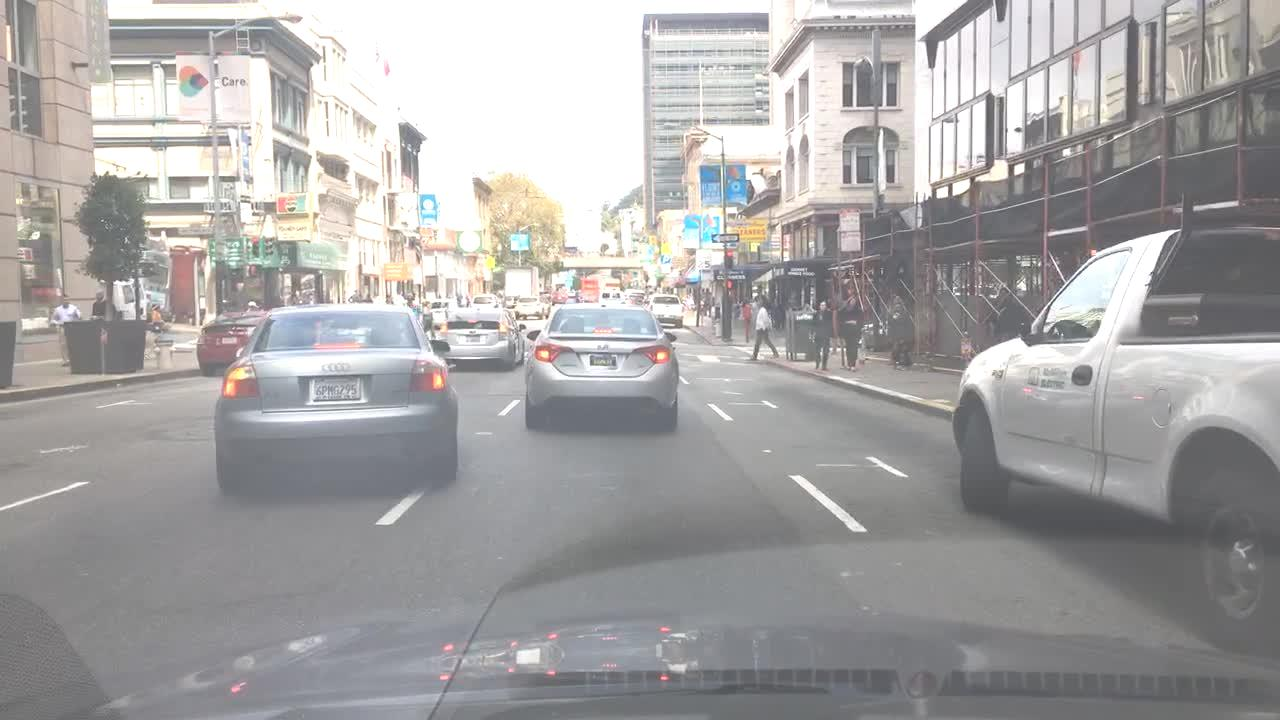Audi: (310, 357, 361, 375)
